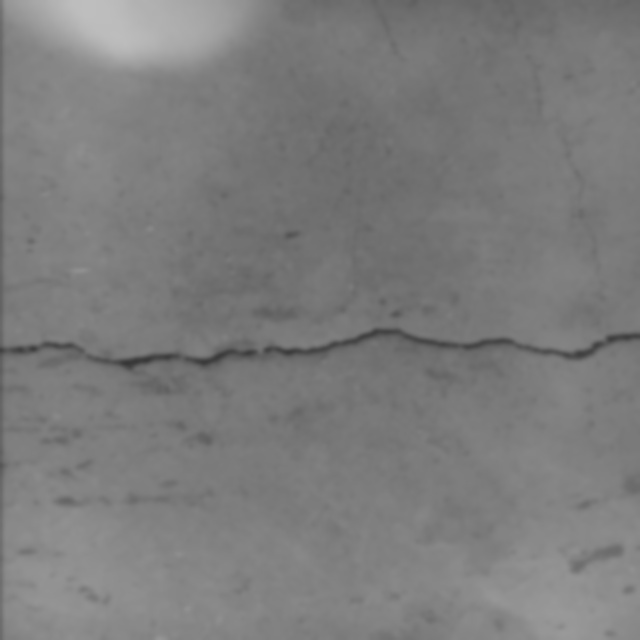SurfaceCrack: (0, 283, 639, 410)
